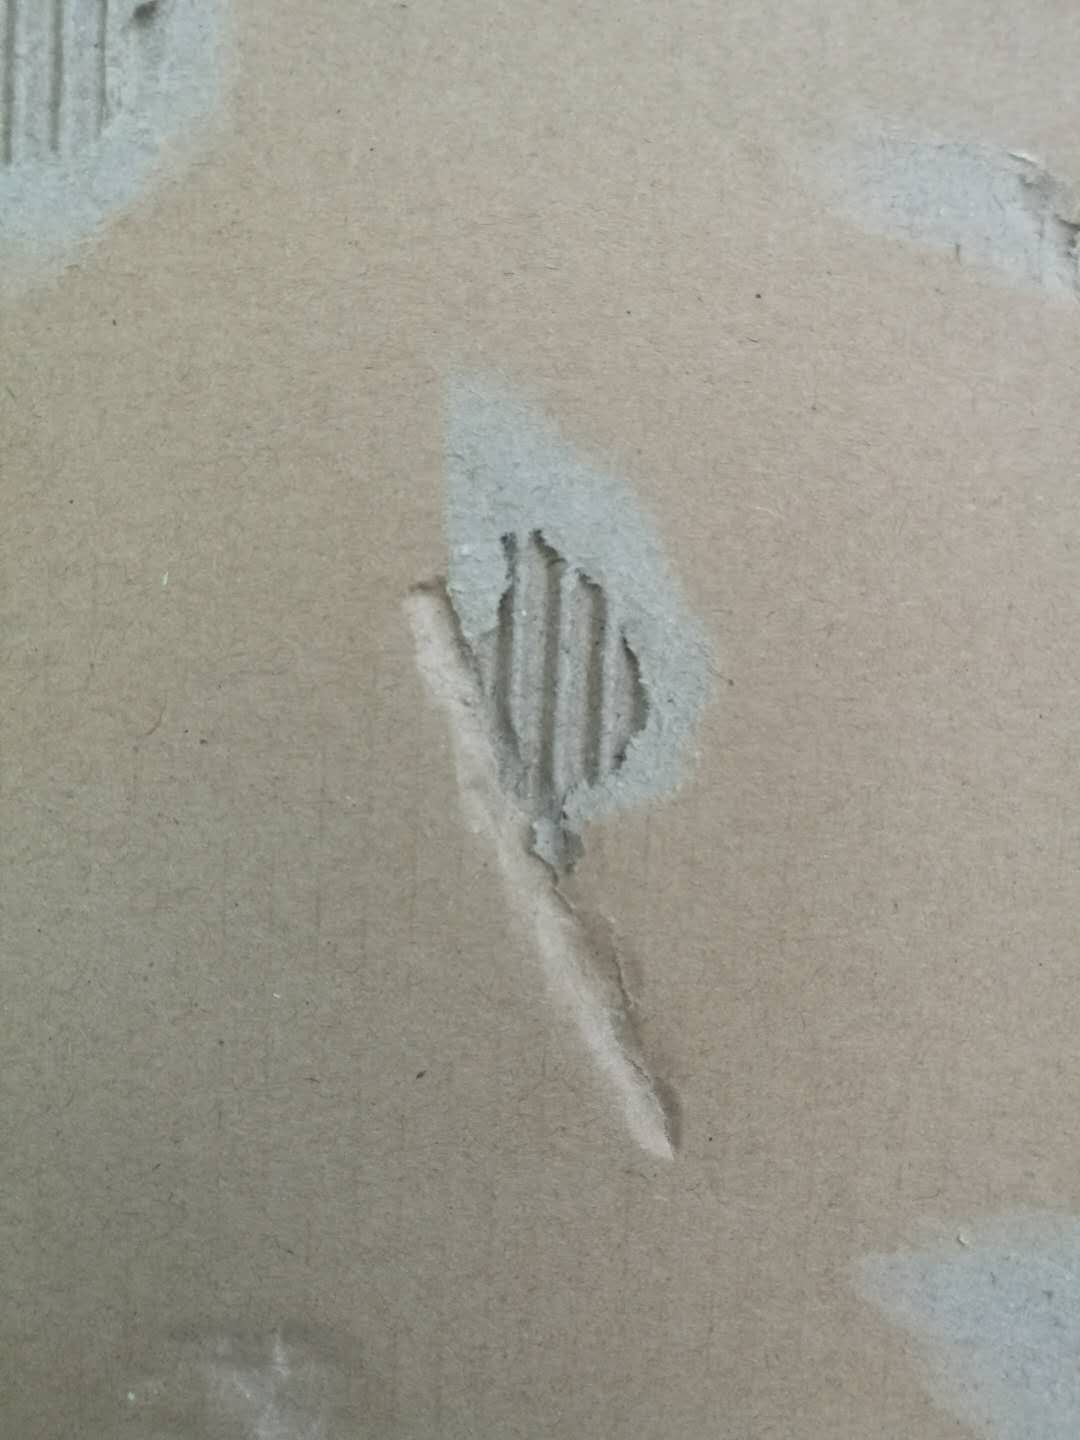defect: (379, 359, 759, 1192), (1, 2, 268, 362), (822, 1178, 1080, 1435), (803, 95, 1080, 317), (95, 1282, 400, 1440)
